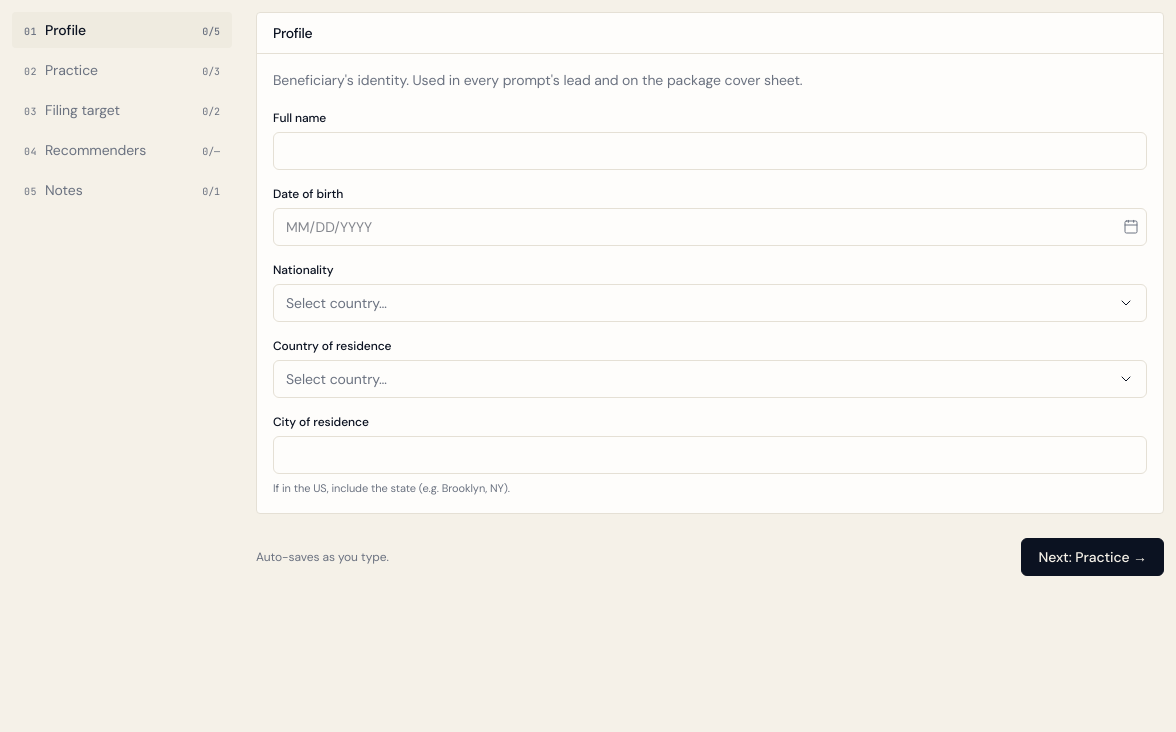
Test: IntakeWizard — DateInput onInvalid wiring › typing an invalid date and blurring surfaces an inline error before Next is clicked
This screenshot has width=1176, height=732.
Type "02/30/1990" into the field labelled "Date of birth" at (710, 227), box [273,208,1147,246]
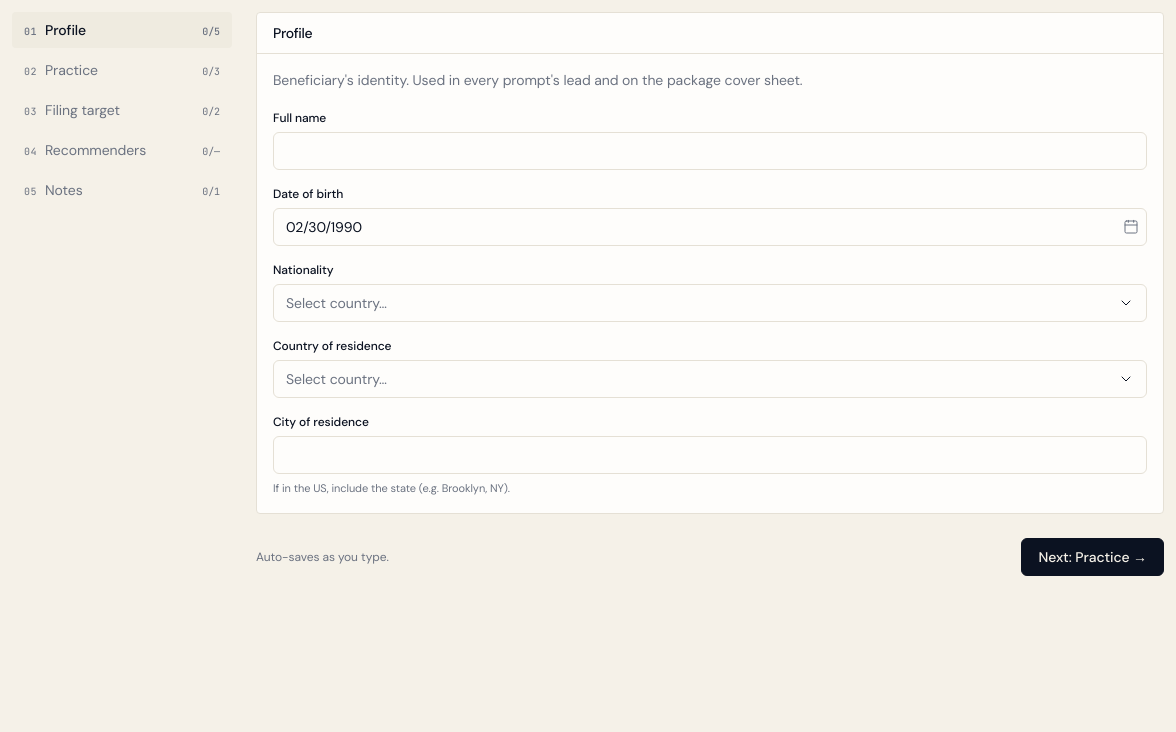
Leave the field labelled "Date of birth", box [273,208,1147,246]
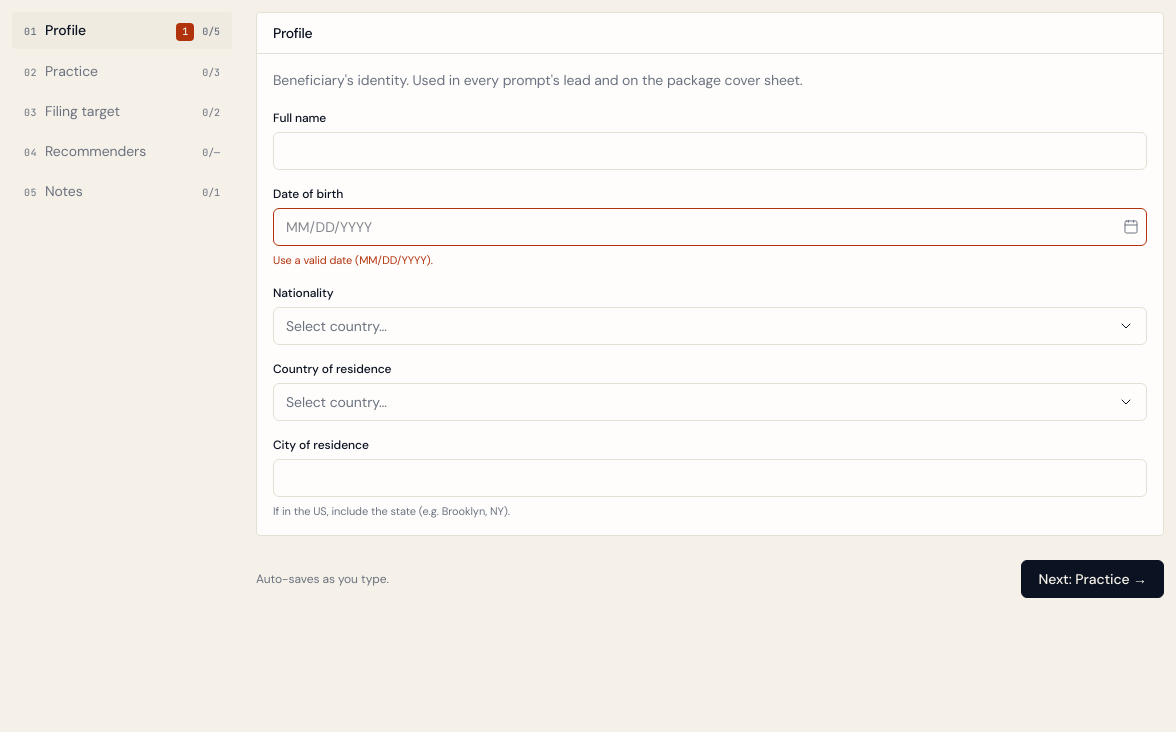
Now the text "Use a valid date (MM/DD/YYYY)." is shown, box [273,253,433,267]
